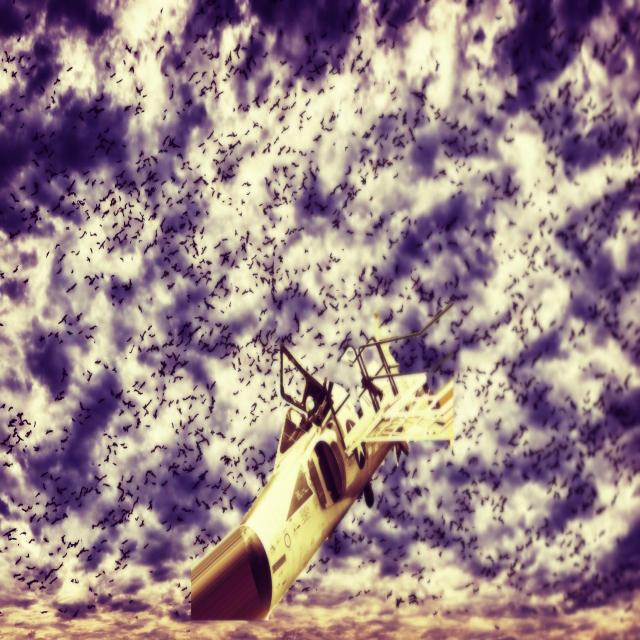airplane: (189, 297, 456, 623)
